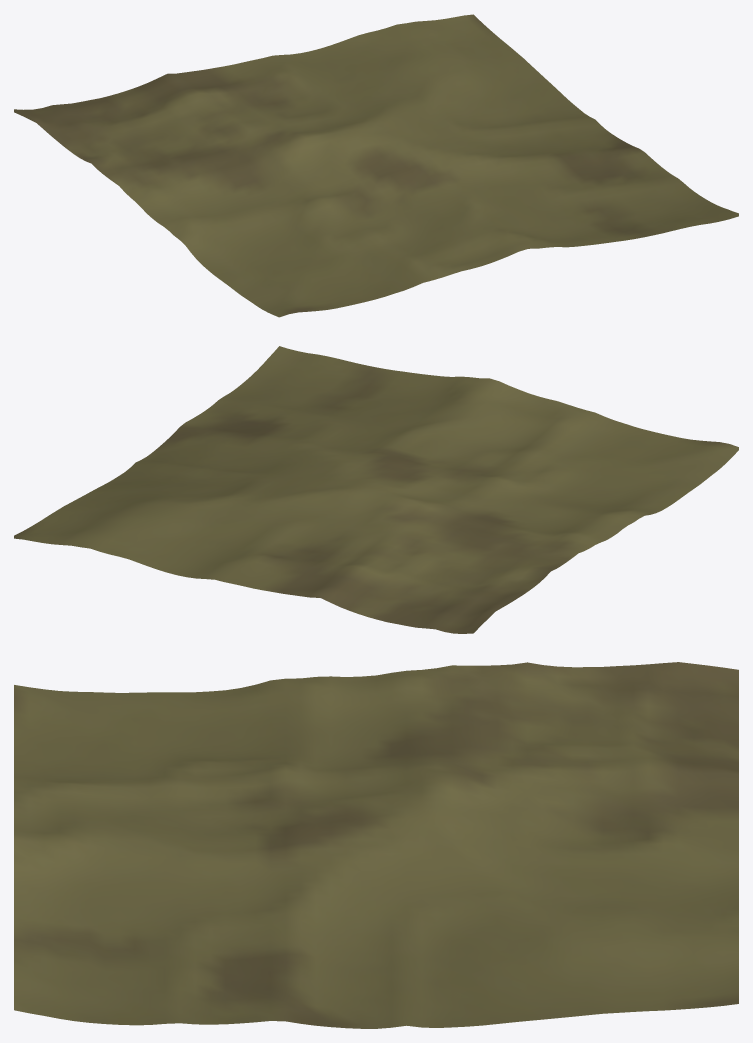
File: land_m_02_08.glb
3 views of the same model, one above another, from view 1: azimuth 30°, elevation 25°; view 2: azimuth 150°, elevation 25°; view 3: azimuth 270°, elevation 25° (orthographic). The views are drawn at different scales.
Parts seen in each view (by area): view 1: land_m_02_08; view 2: land_m_02_08; view 3: land_m_02_08.
Boxes of the visible parts, x1,y1,x2,y2 form: land_m_02_08: (14,14,738,317); land_m_02_08: (14,346,738,633); land_m_02_08: (14,662,738,1028).
Size of the model in its own units: 960 by 91.29 by 960.
